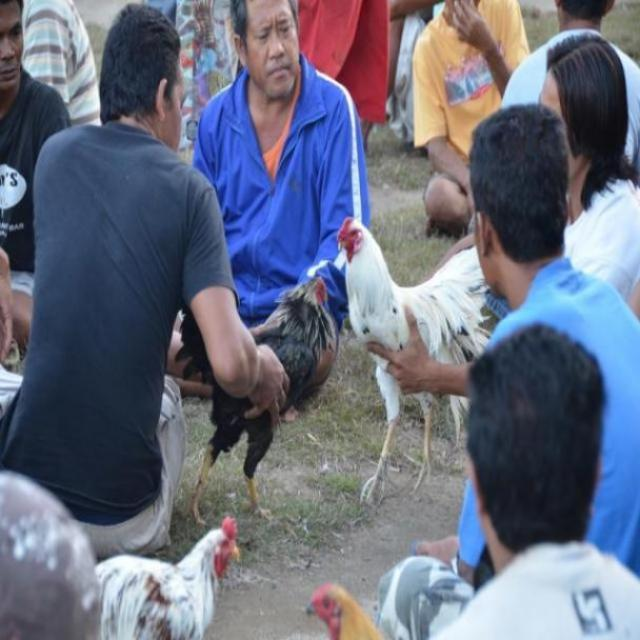Chicken: (330, 199, 501, 510), (168, 273, 329, 526), (89, 510, 244, 639), (301, 581, 388, 639)
